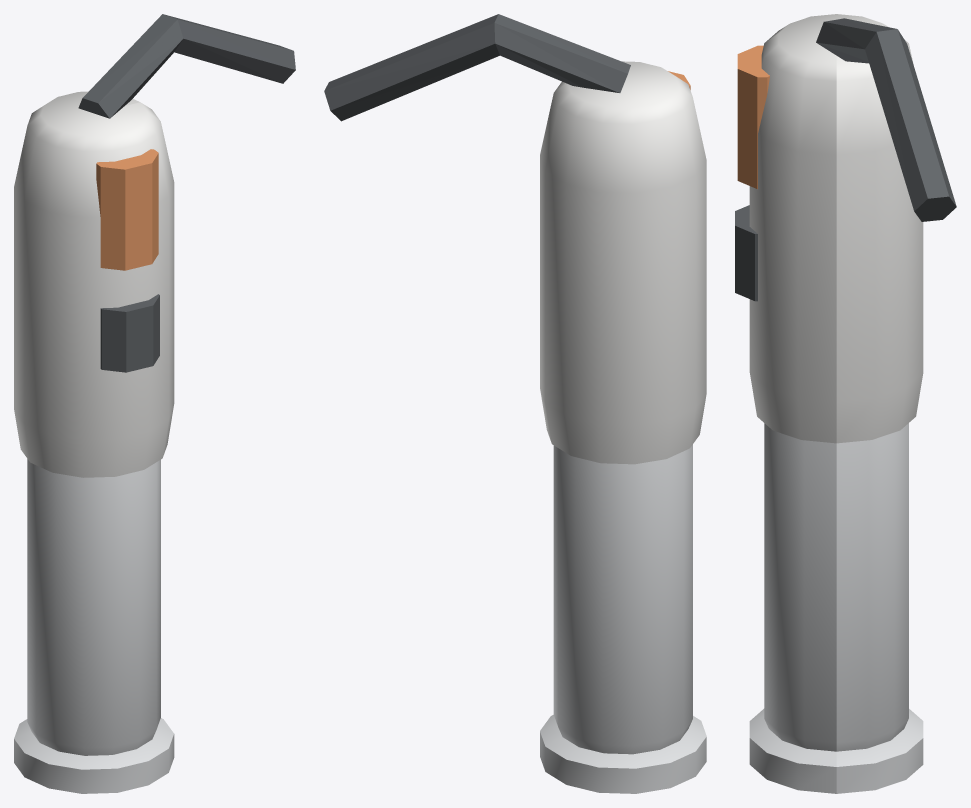
File: home-appliances-and-utility-hand-blender-bbcb9d5c__14123.glb
3 views of the same model, side by side, from view 1: azimuth 30°, elevation 25°; view 2: azimuth 150°, elevation 25°; view 3: azimuth 270°, elevation 25° (orthographic). The views are drawn at different scales.
Parts seen in each view (by area): view 1: hand-blender; view 2: hand-blender; view 3: hand-blender.
Boxes of the visible parts, box(x1,y1,x2,y2) form: hand-blender: box(14, 14, 295, 793); hand-blender: box(324, 14, 706, 793); hand-blender: box(735, 14, 956, 793).
Size of the model in its own units: 0.1608 by 0.3477 by 0.0896.
